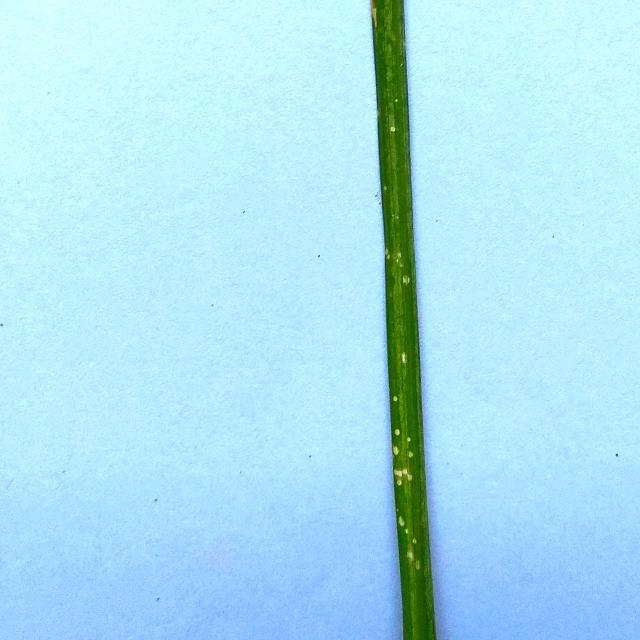Blast: (399, 516, 428, 572), (390, 425, 414, 466), (396, 258, 414, 290), (394, 470, 420, 488), (398, 348, 411, 368)
